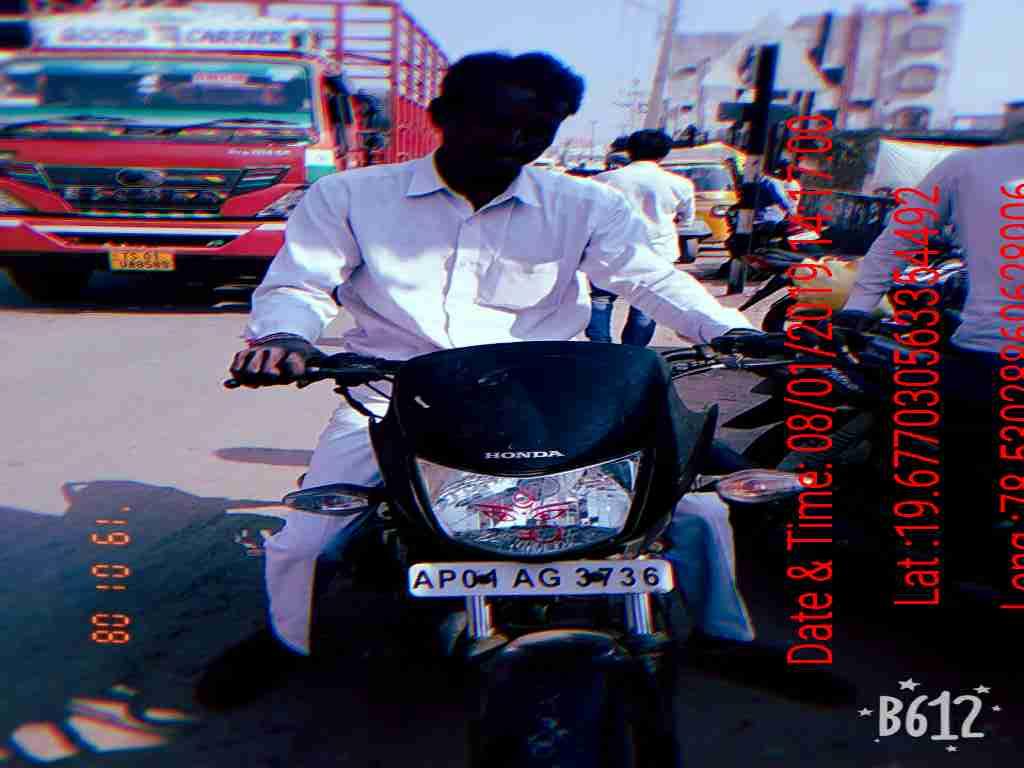plate: (401, 552, 678, 598)
